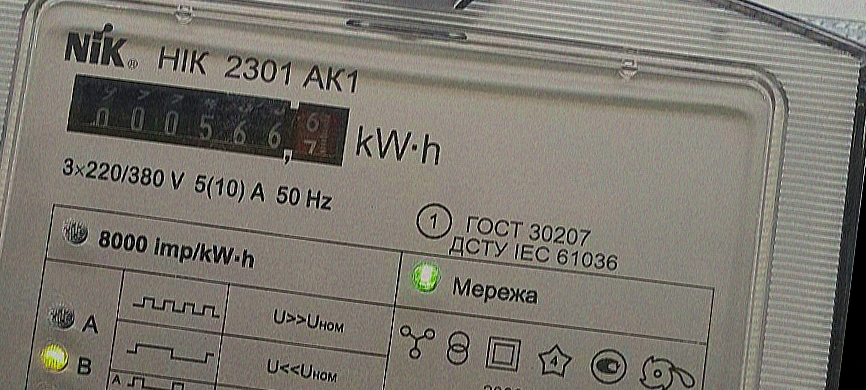0: (127, 101, 148, 132), (161, 107, 182, 138), (92, 102, 113, 127)
5: (196, 111, 217, 142)
6: (264, 117, 287, 150), (229, 116, 251, 146), (304, 109, 323, 136)
7: (301, 137, 319, 156)
9: (99, 81, 119, 103)
screen: (57, 64, 357, 175)
